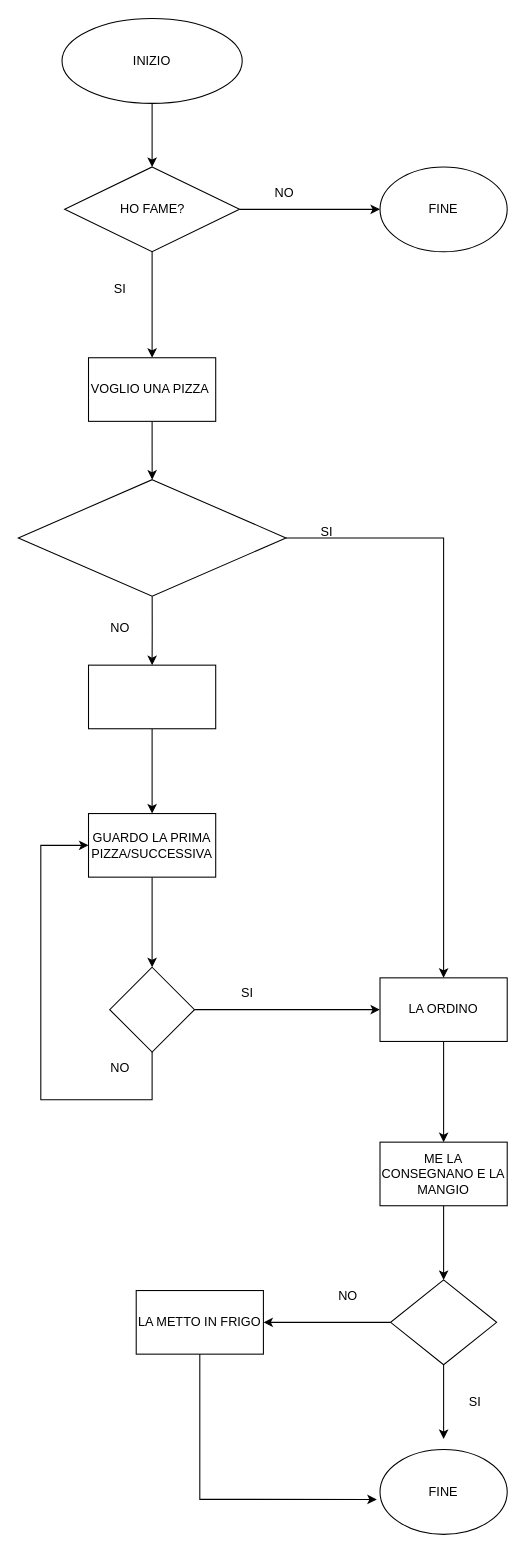
Some shapes in this 527 by 1553 pixel diagram are drawn without their labels. The centre of each missing label's shape, as x and y in pixels:
"GUARDO IL MENU" goes at point 151,696.
"LA FINISCO?" goes at point 443,1322.
"MI PIACE?" goes at point 152,1009.
"VOGLIO LA SOLITA PROSCIUTTO E FUNGHI?" goes at point 151,537.
